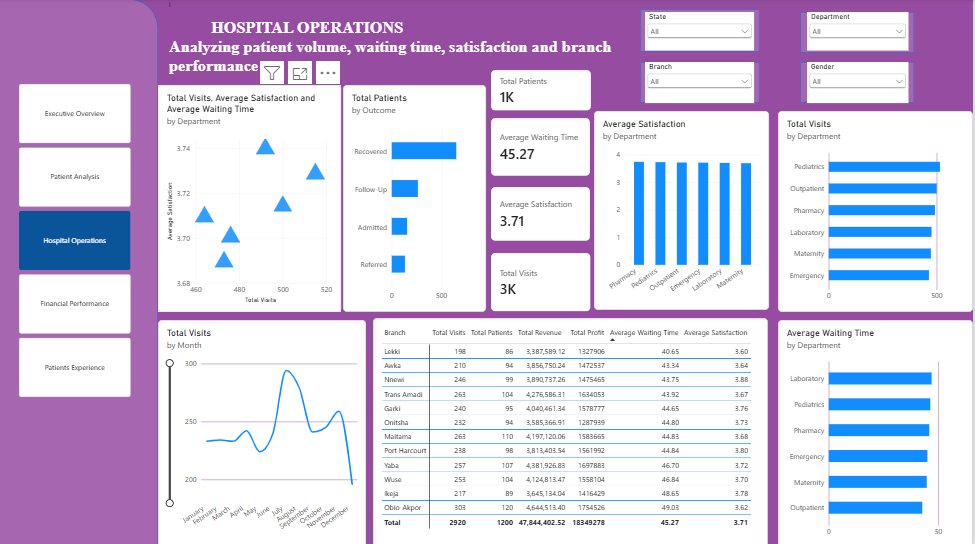

Layout of this report page (visuals, bound fields, positions):
{"tool":"powerbi","page":{"name":"Hospital Operations","canvas":[1920,1080],"ordinal":2},"visuals":[{"type":"textbox","box":[335,0,1046.5,153.7],"z":0},{"type":"cardVisual","fields":{"Data":["Date_Table.Total Visits"]},"box":[970.3,499.6,196.1,115.6],"z":1000},{"type":"cardVisual","fields":{"Data":["Date_Table.Average Waiting Time"]},"box":[969.6,234.5,195.1,114.3],"z":2000},{"type":"cardVisual","fields":{"Data":["Date_Table.Total Patients"]},"box":[969.6,139.9,197.1,80.8],"z":3000},{"type":"cardVisual","fields":{"Data":["Date_Table.Average Satisfaction"]},"box":[969.6,370.5,195.1,106.4],"z":4000},{"type":"clusteredBarChart","fields":{"Category":["Patient_Visits.Department"],"Y":["Date_Table.Total Visits"]},"box":[1535.3,220.7,384.3,396.1],"z":5000},{"type":"clusteredBarChart","fields":{"Category":["Patient_Visits.Department"],"Y":["Date_Table.Average Waiting Time"]},"box":[1536,632,384,448],"z":6000},{"type":"clusteredColumnChart","fields":{"Category":["Patient_Visits.Department"],"Y":["Date_Table.Average Satisfaction"]},"box":[1172.6,220.7,344.9,392.2],"z":7000},{"type":"clusteredBarChart","fields":{"Category":["Patient_Visits.Outcome"],"Y":["Date_Table.Total Patients"]},"box":[678,169.5,281.8,447.4],"z":8000},{"type":"pivotTable","fields":{"Rows":["Patient_Visits.Branch"],"Values":["Date_Table.Total Visits","Date_Table.Total Patients","Date_Table.Total Revenue","Date_Table.Total Profit","Date_Table.Average Waiting Time","Date_Table.Average Satisfaction"]},"box":[738,628,778,452],"z":9000},{"type":"lineChart","fields":{"Category":["Date_Table.Date.Variation.Date Hierarchy.Month"],"Y":["Date_Table.Total Visits"]},"box":[314,632,410,448],"z":10000},{"type":"scatterChart","fields":{"Category":["Patient_Visits.Department"],"Size":["Date_Table.Average Waiting Time"],"X":["Date_Table.Total Visits"],"Y":["Date_Table.Average Satisfaction"]},"box":[313.4,169.5,360.7,447.4],"z":11000},{"type":"shape","box":[0,0,313.4,1080],"z":12000},{"type":"pageNavigator","box":[39.4,167.5,220.7,618.8],"z":13000},{"type":"shape","box":[1263.5,20.6,235.4,84.6],"z":14000},{"type":"slicer","fields":{"Values":["Patient_Visits.State"]},"box":[1273.8,24.8,214.7,76.4],"z":15000},{"type":"shape","box":[1263.5,123.9,235.4,80.5],"z":16000},{"type":"slicer","fields":{"Values":["Patient_Visits.Branch"]},"box":[1273.8,123.9,214.7,80.5],"z":17000},{"type":"shape","box":[1579.4,24.8,225,80.5],"z":18000},{"type":"slicer","fields":{"Values":["Patient_Visits.Department"]},"box":[1591.7,24.8,200.3,76.4],"z":19000},{"type":"shape","box":[1579.4,123.9,225,80.5],"z":20000},{"type":"slicer","fields":{"Values":["Patient_Visits.Gender"]},"box":[1591.7,123.9,200.3,80.5],"z":21000}]}

Visuals, with their boxes in screenshot pixels (x1, y1, x2, y2), scaled from the page's 1920x1080 canvas onto the 975x544 screenshot:
textbox: bbox=[170, 0, 702, 77]
cardVisual - Date_Table.Total Visits: bbox=[493, 252, 592, 310]
cardVisual - Date_Table.Average Waiting Time: bbox=[492, 118, 591, 176]
cardVisual - Date_Table.Total Patients: bbox=[492, 70, 592, 111]
cardVisual - Date_Table.Average Satisfaction: bbox=[492, 187, 591, 240]
clusteredBarChart - Patient_Visits.Department x Date_Table.Total Visits: bbox=[780, 111, 974, 311]
clusteredBarChart - Patient_Visits.Department x Date_Table.Average Waiting Time: bbox=[780, 318, 974, 543]
clusteredColumnChart - Patient_Visits.Department x Date_Table.Average Satisfaction: bbox=[595, 111, 771, 309]
clusteredBarChart - Patient_Visits.Outcome x Date_Table.Total Patients: bbox=[344, 85, 487, 311]
pivotTable - Patient_Visits.Branch x Date_Table.Total Visits: bbox=[375, 316, 770, 543]
lineChart - Date_Table.Date.Variation.Date Hierarchy.Month x Date_Table.Total Visits: bbox=[159, 318, 368, 543]
scatterChart - Patient_Visits.Department x Date_Table.Average Waiting Time: bbox=[159, 85, 342, 311]
shape: bbox=[0, 0, 159, 543]
pageNavigator: bbox=[20, 84, 132, 396]
shape: bbox=[642, 10, 761, 53]
slicer - Patient_Visits.State: bbox=[647, 12, 756, 51]
shape: bbox=[642, 62, 761, 103]
slicer - Patient_Visits.Branch: bbox=[647, 62, 756, 103]
shape: bbox=[802, 12, 916, 53]
slicer - Patient_Visits.Department: bbox=[808, 12, 910, 51]
shape: bbox=[802, 62, 916, 103]
slicer - Patient_Visits.Gender: bbox=[808, 62, 910, 103]
